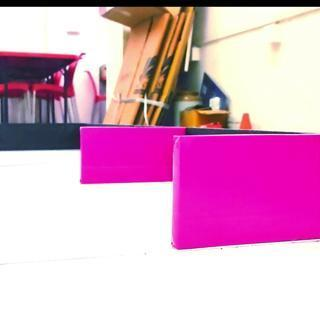xparking: (175, 133, 316, 242), (78, 124, 172, 183)
